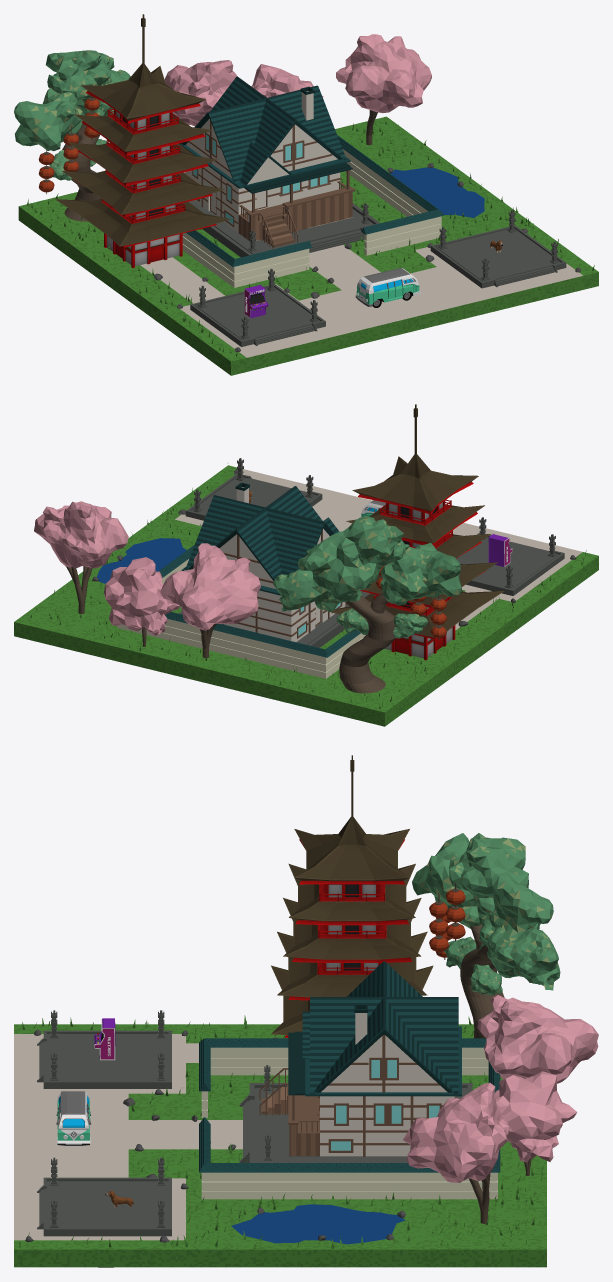
3 renders of one model, top to bottom at view 1: azimuth 30°, elevation 25°; view 2: azimuth 150°, elevation 25°; view 3: azimuth 270°, elevation 25°, orthographic. The views are drawn at different scales.
Visible parts, largest first — view 1: Cube.005, Cube.793, VEHICLES_VAN, OBJRANDOM_ARCADE; view 2: Cube.005, Cube.793, OBJRANDOM_ARCADE; view 3: Cube.005, Cube.793, VEHICLES_VAN, OBJRANDOM_ARCADE.
Part boxes in pixels (<box>): Cube.005: <box>14,14,598,375</box>; Cube.793: <box>179,76,355,248</box>; VEHICLES_VAN: <box>355,268,420,307</box>; OBJRANDOM_ARCADE: <box>244,284,268,318</box>; Cube.005: <box>14,404,598,726</box>; Cube.793: <box>181,482,347,641</box>; OBJRANDOM_ARCADE: <box>488,533,512,566</box>; Cube.005: <box>14,755,598,1267</box>; Cube.793: <box>259,961,461,1156</box>; VEHICLES_VAN: <box>56,1091,91,1145</box>; OBJRANDOM_ARCADE: <box>94,1018,115,1060</box>.
Size of the model in its own units: 4528 by 2663 by 4389.
Materials: 41 (6 with a texture image).
